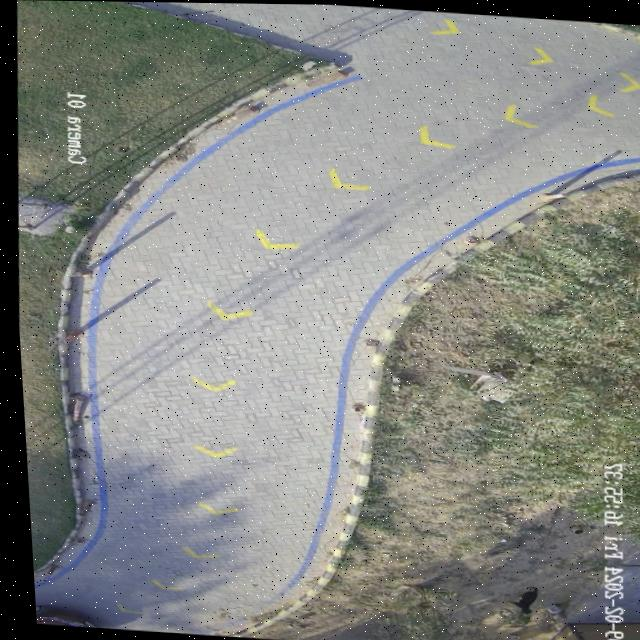No Car: (15, 0, 640, 640)
